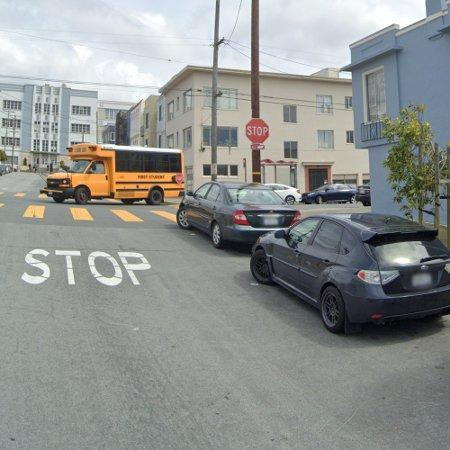crosswalk: (0, 203, 179, 221)
